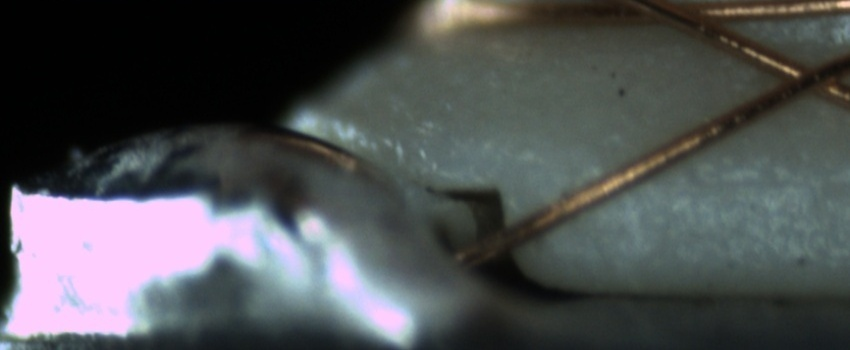CL: (761, 46, 847, 105)
DL: (627, 146, 847, 215)
